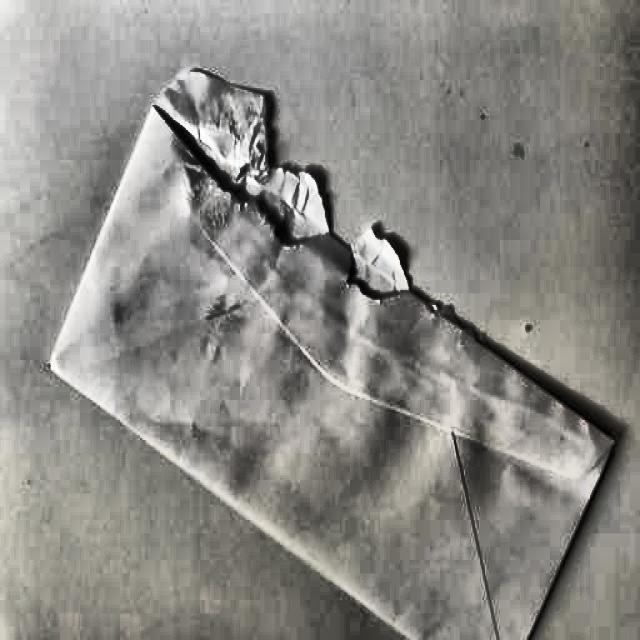paper: (54, 67, 613, 638)
